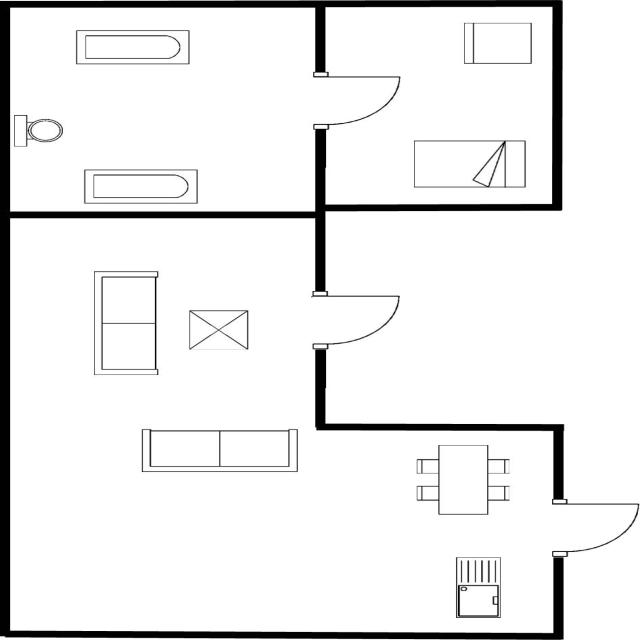bed: (408, 136, 529, 192)
coffee_table: (180, 304, 254, 356)
dining_table: (410, 440, 518, 520)
large_sink: (11, 112, 68, 148)
large_sofa: (135, 426, 302, 477), (86, 268, 162, 379)
sink: (450, 553, 506, 622)
small_sofa: (456, 17, 538, 68)
tub: (68, 27, 194, 68), (78, 166, 204, 206)
